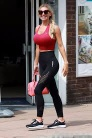female: (35, 3, 56, 29)
